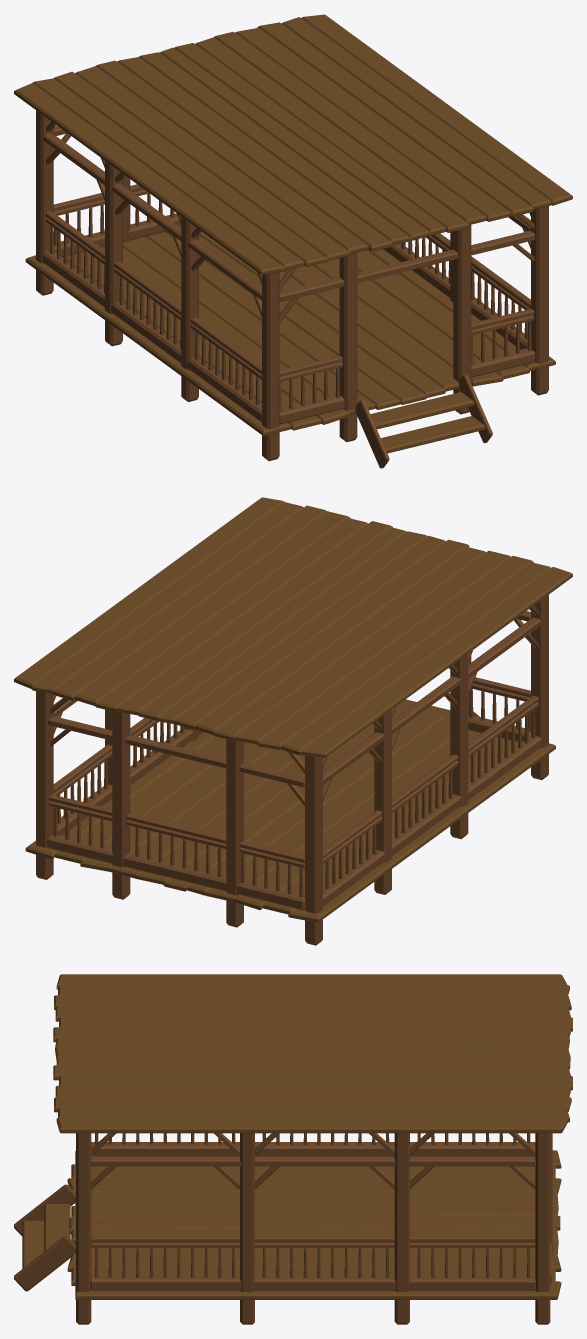
File: farmstractures_01.gltf
The picture shows the model from 3 angles, top to bottom: view 1: azimuth 30°, elevation 25°; view 2: azimuth 150°, elevation 25°; view 3: azimuth 270°, elevation 25°; orthographic projection.
Parts seen in each view (by area): view 1: blades, body; view 2: blades, body; view 3: blades, body.
Boxes of the visible parts, <box> form: blades: <box>14,14,569,459</box>; body: <box>25,121,572,468</box>; blades: <box>17,497,572,943</box>; body: <box>14,605,555,945</box>; blades: <box>53,974,572,1322</box>; body: <box>14,974,572,1324</box>.
Bounding box in the file's own units: 5.27 × 3.41 × 8.07.
1 material, 1 textured.
